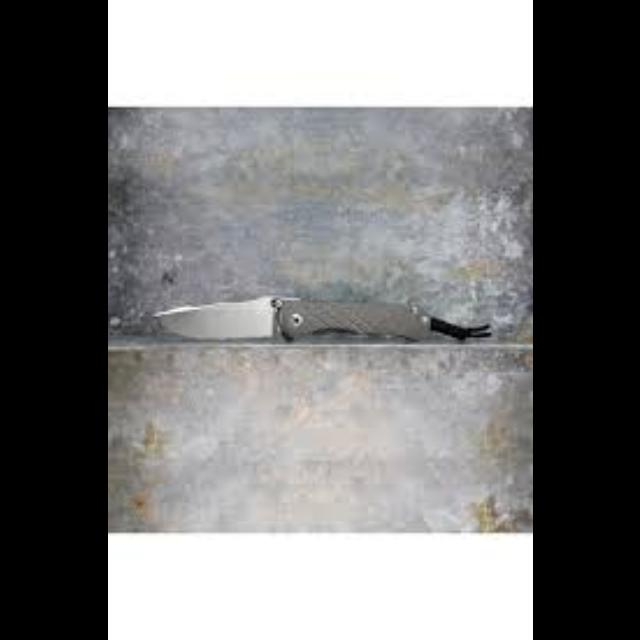Knife: (149, 294, 491, 342)
